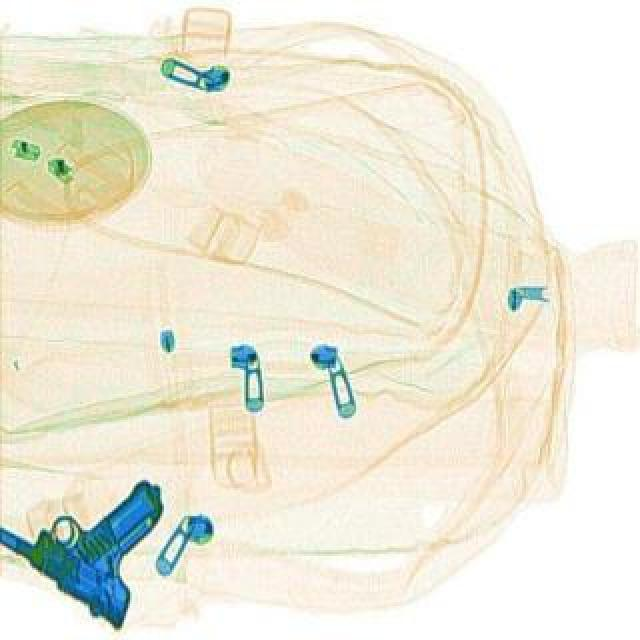gun: (0, 454, 198, 634)
